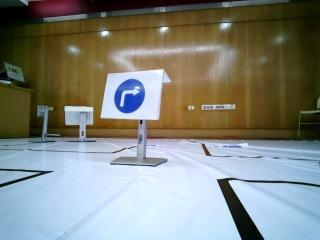right: (103, 74, 160, 119)
